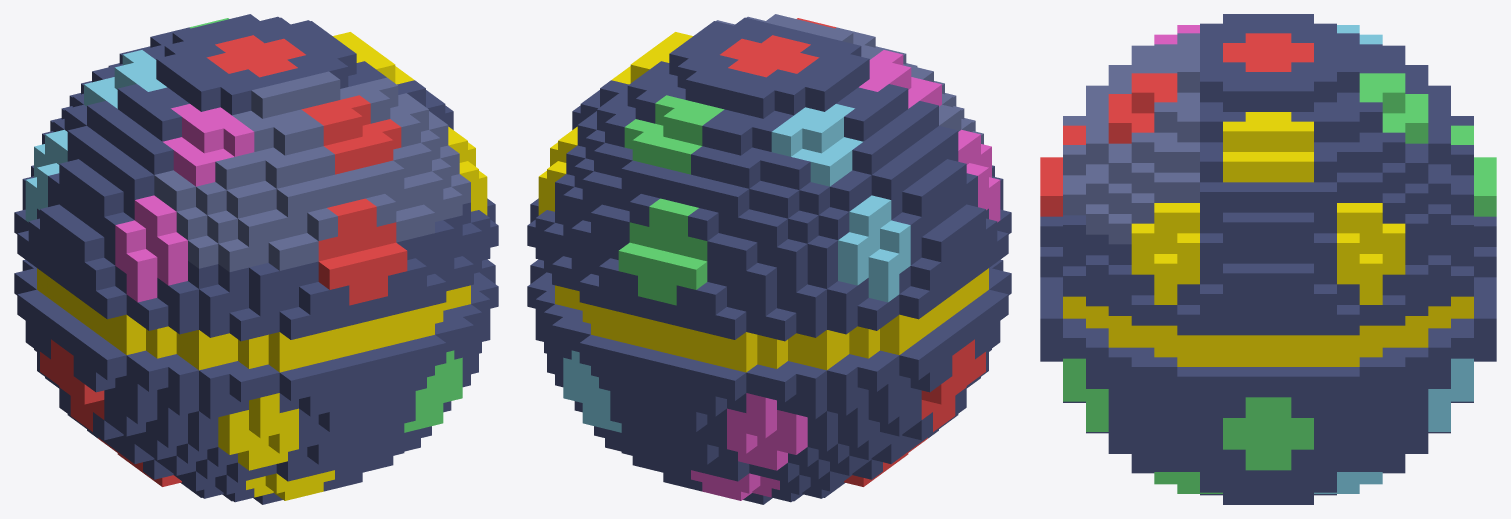
Rendered from Bomb_Color.fbx.
3 renders of one model, left to right at view 1: azimuth 30°, elevation 25°; view 2: azimuth 150°, elevation 25°; view 3: azimuth 270°, elevation 25°, orthographic.
Visible parts, largest first — view 1: Bomb_Color; view 2: Bomb_Color; view 3: Bomb_Color.
Part boxes in pixels (<box>): Bomb_Color: <box>14,14,498,504</box>; Bomb_Color: <box>527,14,1011,504</box>; Bomb_Color: <box>1040,14,1496,504</box>.
Size of the model in its own units: 80.51 by 80.51 by 80.51.
